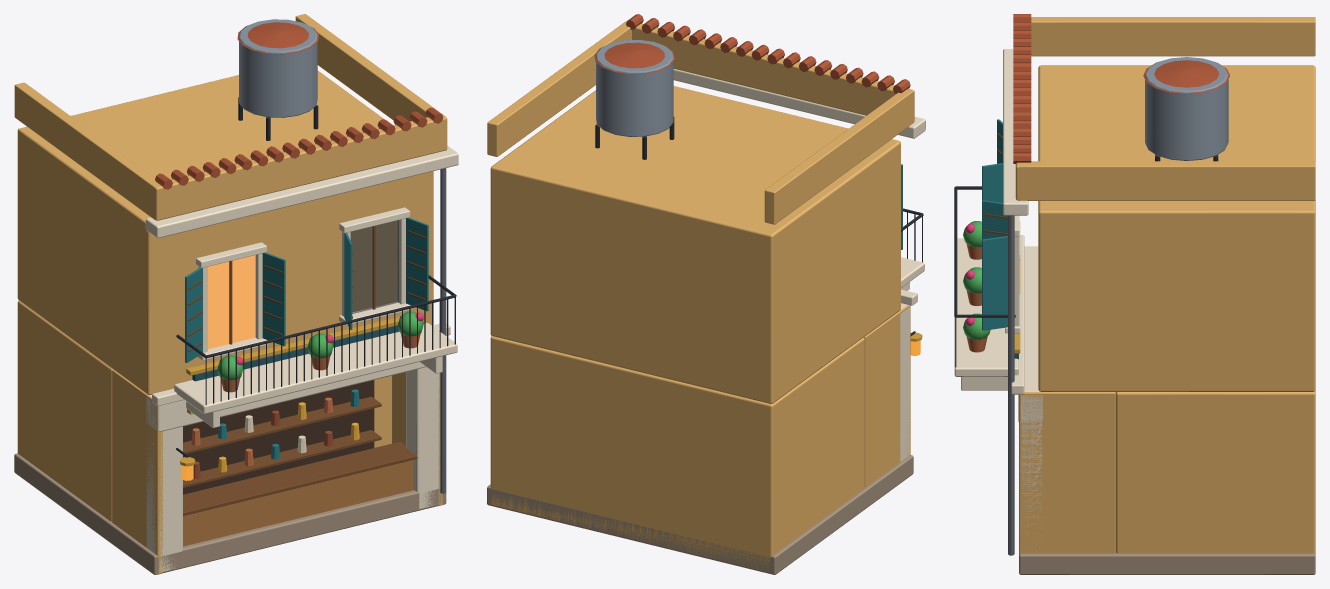
Rendered from mk_house_a.glb.
3 views of the same model, side by side, from view 1: azimuth 30°, elevation 25°; view 2: azimuth 150°, elevation 25°; view 3: azimuth 270°, elevation 25° (orthographic). The views are drawn at different scales.
Visible parts, largest first — view 1: mk_house_a_body; view 2: mk_house_a_body; view 3: mk_house_a_body.
Part boxes in pixels (x1=…): mk_house_a_body: x1=14, y1=14, x2=458, y2=574; mk_house_a_body: x1=487, y1=14, x2=925, y2=574; mk_house_a_body: x1=954, y1=14, x2=1315, y2=574.
Size of the model in its own units: 5.7 by 7.87 by 5.61.
